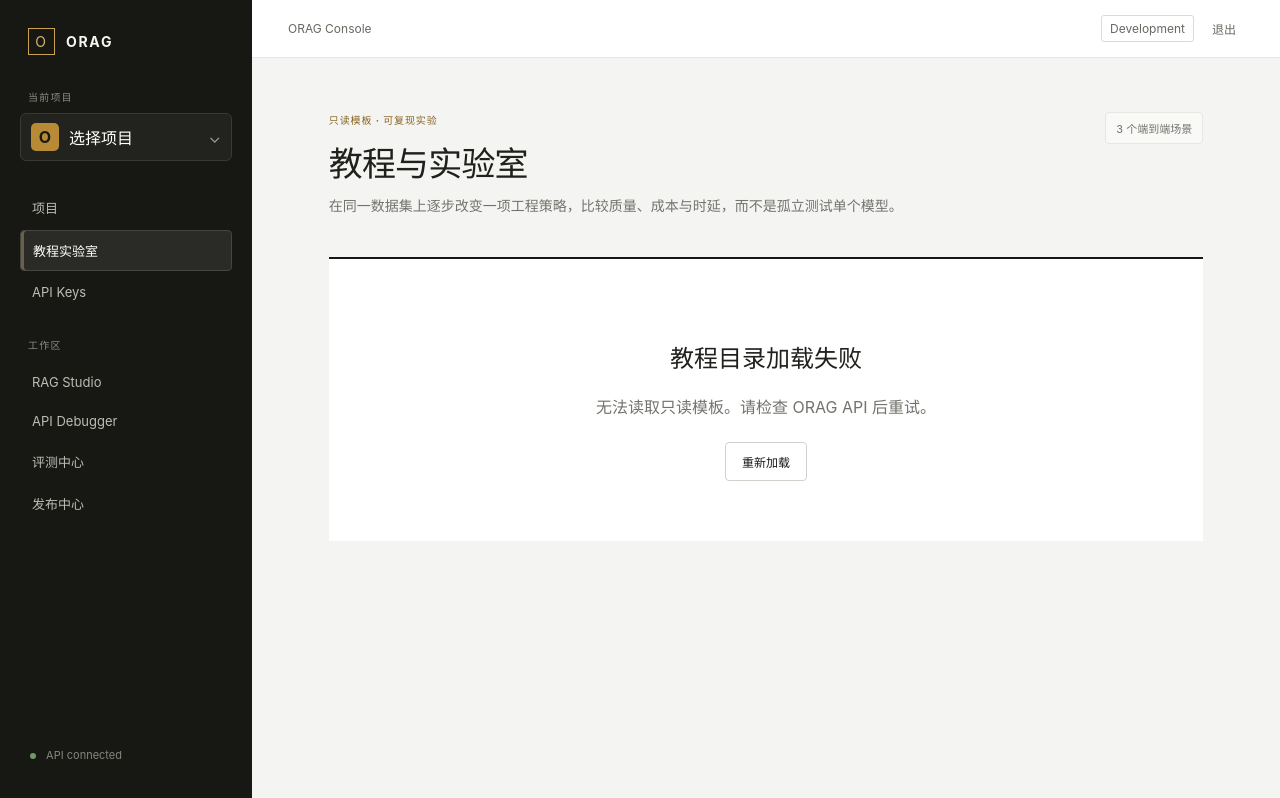
it: Tutorial catalog › retries after the catalog API fails
This screenshot has width=1280, height=798.
What coordinates should you click on to do the following:
click the button "重新加载"
I would click on:
 (766, 461)
Its box is [725, 442, 807, 481].
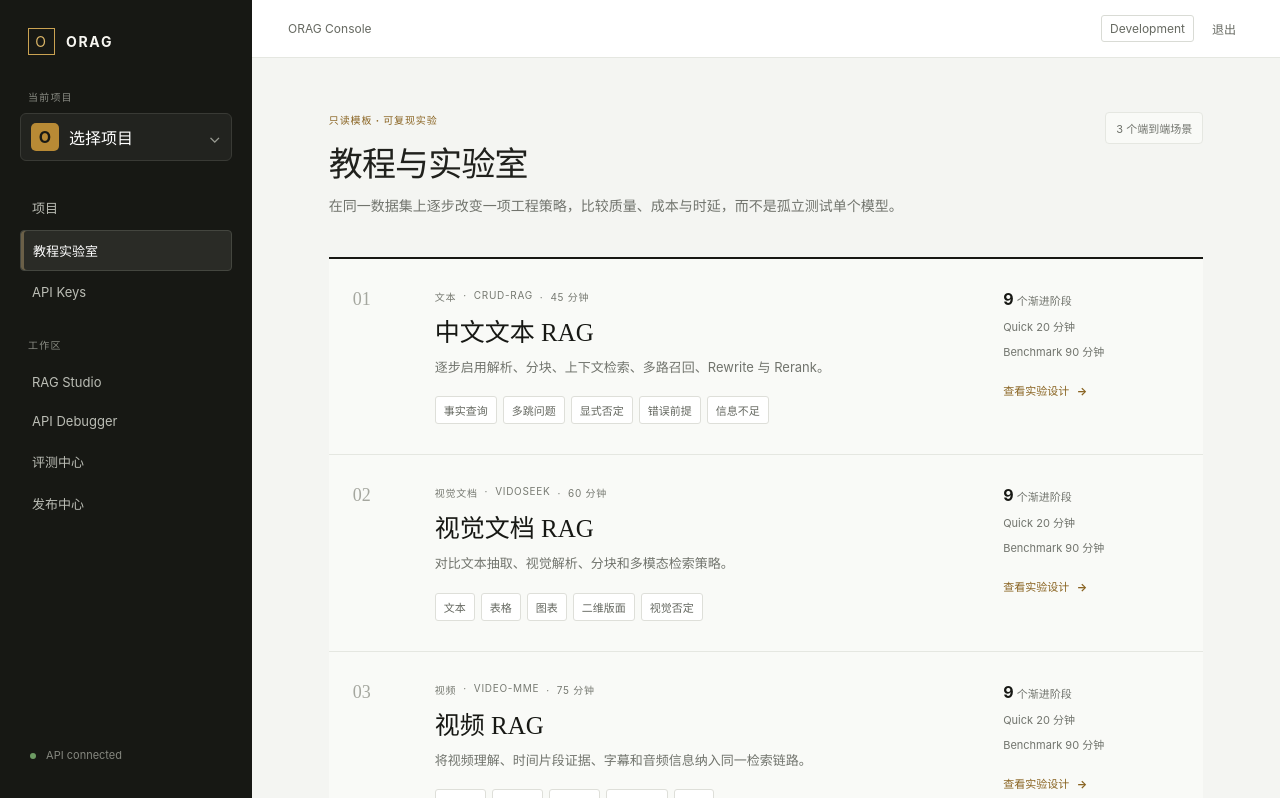
Check: the heading "中文文本 RAG" is shown, box [435, 319, 594, 346]
